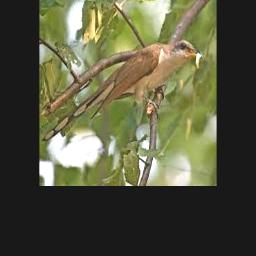Cuckoo: (42, 40, 203, 142)
